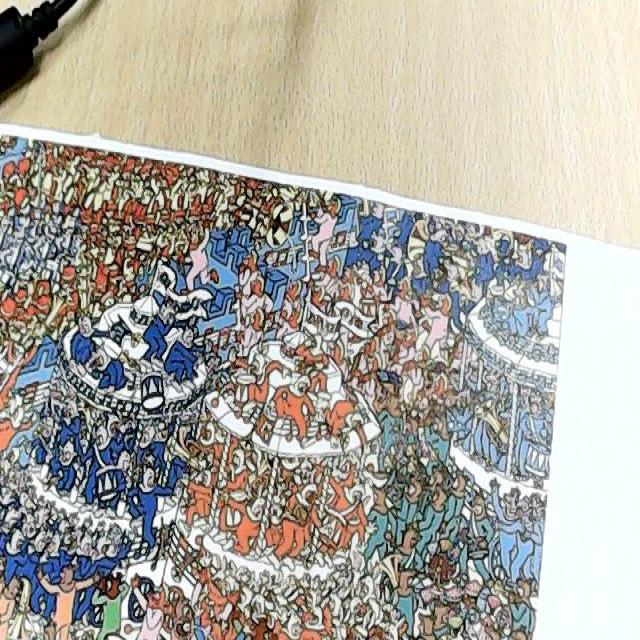waldo: (447, 362, 461, 390)
